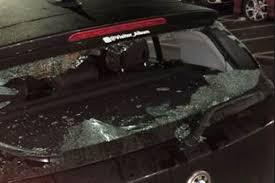Rear-windscreen-Damage: (0, 18, 273, 168)
